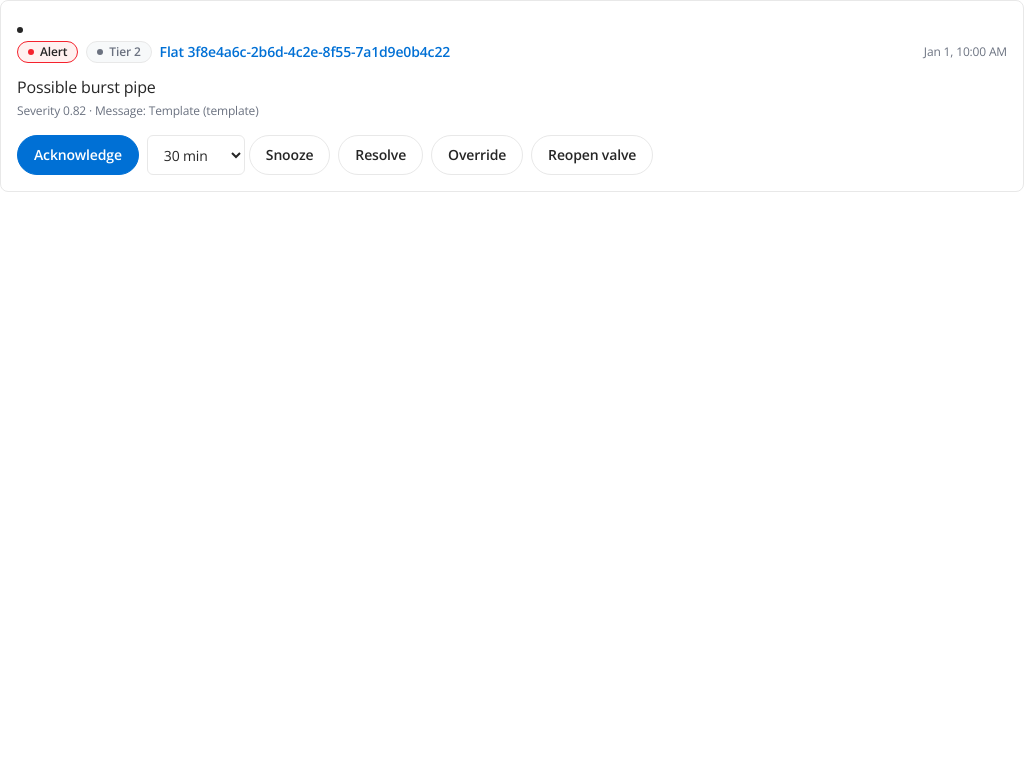
Test: alert row actions › requires confirmation and a reason before override
The width and height of the screenshot is (1024, 768).
Later steps or results of the test are not shown.
Click the button "Override" at (477, 155), box [431,135,523,175]
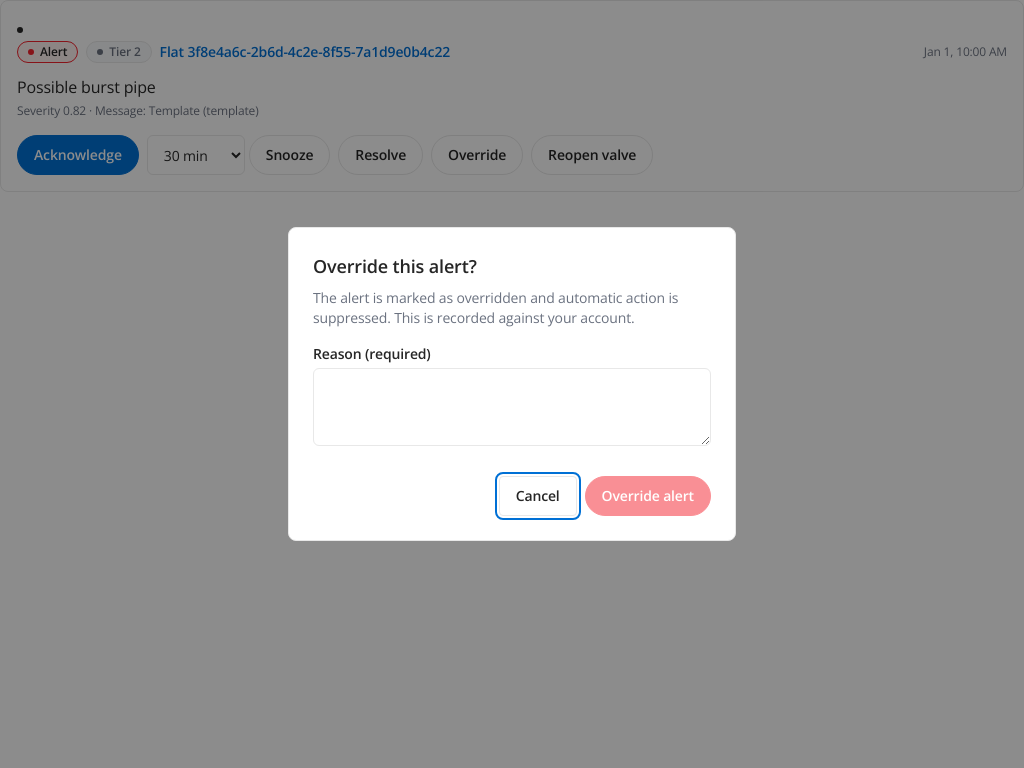
Check: the button "Override alert" is disabled, box [585,476,711,516]
